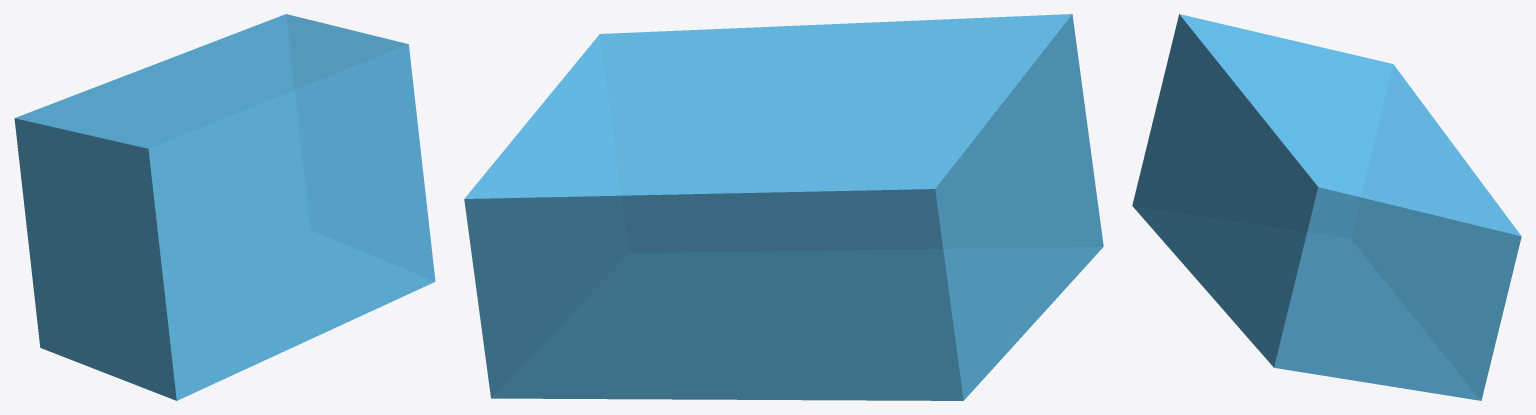
File: Event_421127236_HErechit_25.fbx
The picture shows the model from 3 angles, left to right: view 1: azimuth 30°, elevation 25°; view 2: azimuth 150°, elevation 25°; view 3: azimuth 270°, elevation 25°; orthographic projection. The views are drawn at different scales.
Parts seen in each view (by area): view 1: Model; view 2: Model; view 3: Model.
Part boxes in pixels (x1=…): Model: x1=14, y1=14, x2=435, y2=400; Model: x1=464, y1=14, x2=1103, y2=400; Model: x1=1132, y1=14, x2=1521, y2=400.
Bounding box in the file's own units: 0.6905 × 0.5647 × 0.8048.
